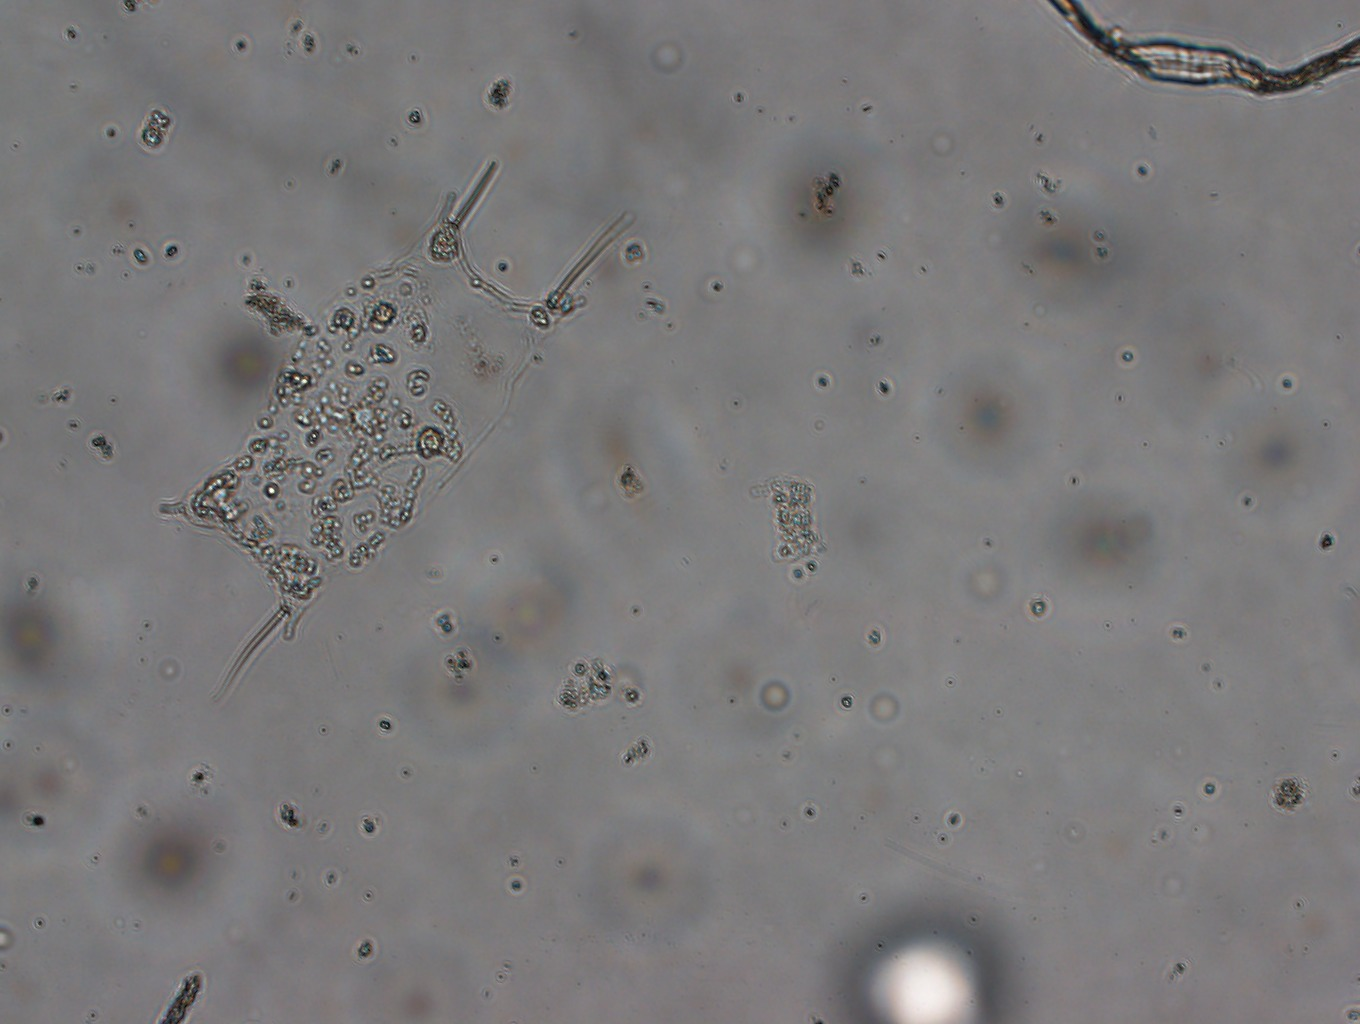biddulphia: (129, 152, 621, 692)
